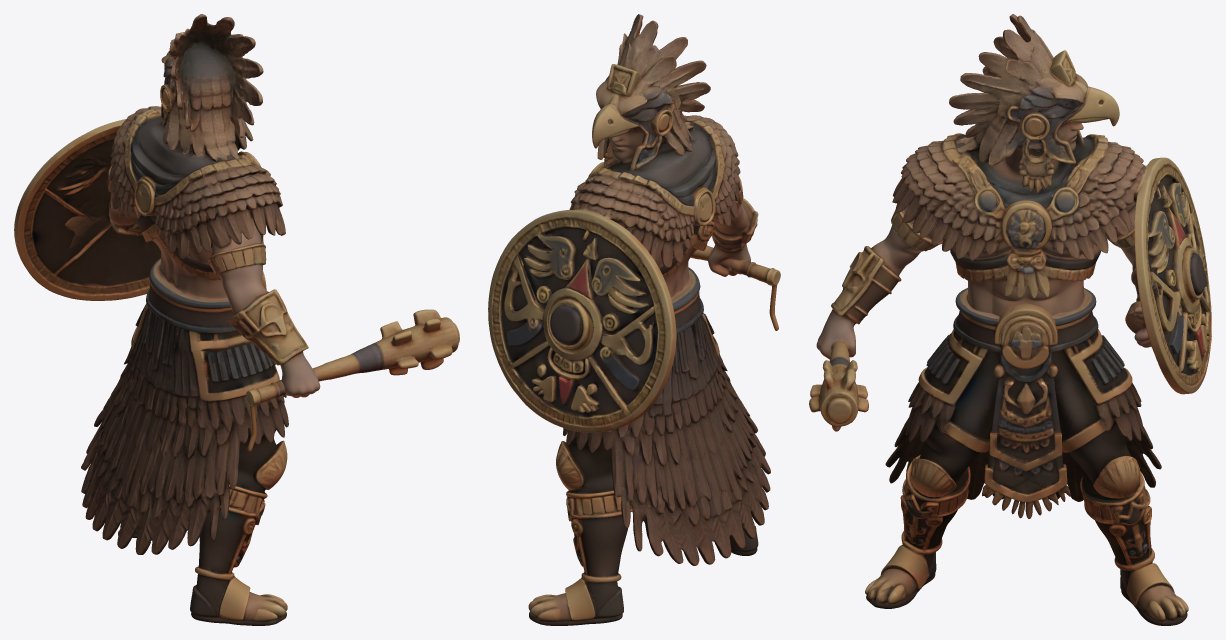
File: Eagle Knight.fbx
The picture shows the model from 3 angles, left to right: view 1: azimuth 30°, elevation 25°; view 2: azimuth 150°, elevation 25°; view 3: azimuth 270°, elevation 25°; orthographic projection. The views are drawn at different scales.
Visible parts, largest first — view 1: tripo_node_0b880fe3; view 2: tripo_node_0b880fe3; view 3: tripo_node_0b880fe3.
Boxes of the visible parts, <box> form: tripo_node_0b880fe3: <box>14,14,459,625</box>; tripo_node_0b880fe3: <box>488,14,780,625</box>; tripo_node_0b880fe3: <box>809,14,1211,625</box>.
Size of the model in its own units: 0.508 by 0.9985 by 0.6245.
Materials: 1 (1 with a texture image).
